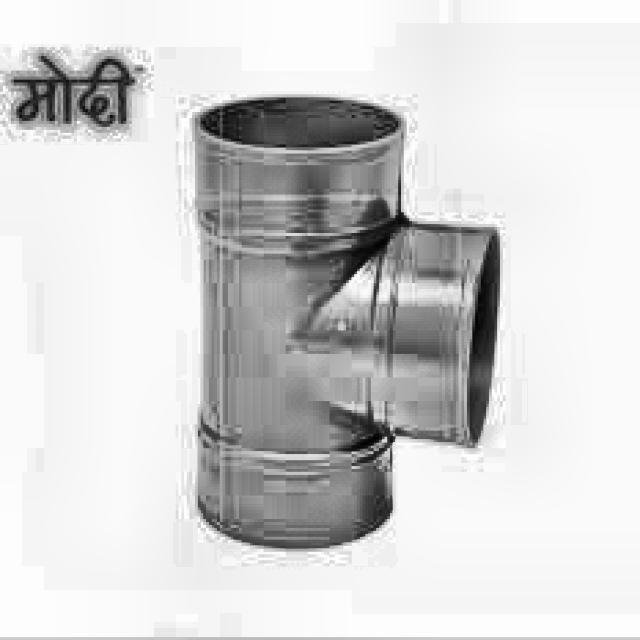EQUALTEE: (187, 94, 503, 554)
